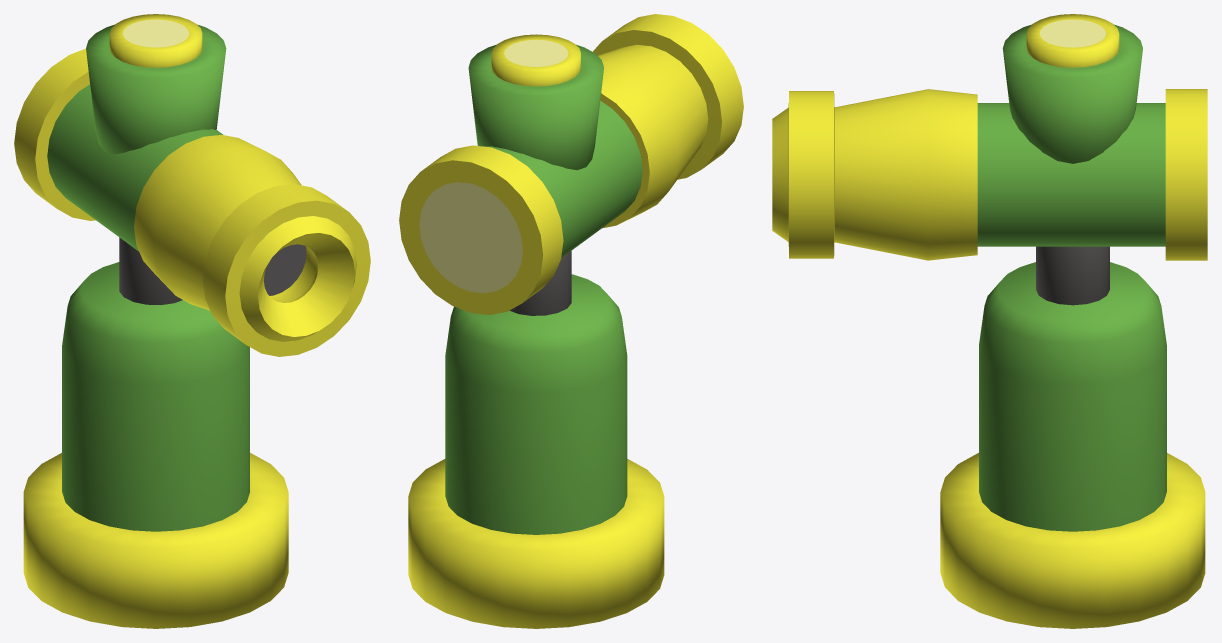
File: Obstacle 28 V2.fbx
3 renders of one model, left to right at view 1: azimuth 30°, elevation 25°; view 2: azimuth 150°, elevation 25°; view 3: azimuth 270°, elevation 25°, orthographic. The views are drawn at different scales.
Visible parts, largest first — view 1: 028 Part 2, 028 Part 1; view 2: 028 Part 2, 028 Part 1; view 3: 028 Part 2, 028 Part 1.
Part boxes in pixels (<box>): 028 Part 2: <box>23,14,288,628</box>; 028 Part 1: <box>14,48,370,356</box>; 028 Part 2: <box>408,34,664,628</box>; 028 Part 1: <box>399,14,743,314</box>; 028 Part 2: <box>940,14,1205,628</box>; 028 Part 1: <box>772,89,1207,260</box>.
Bounding box in the file's own units: 45.05 × 101 × 74.06.
Materials: 1 (1 with a texture image).
